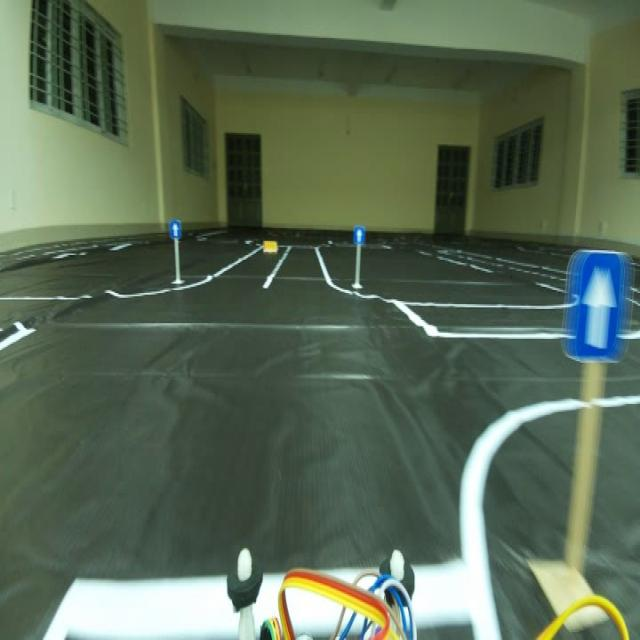onewayroad: (563, 256, 628, 362), (354, 222, 368, 244), (168, 216, 182, 235)
roadblock: (260, 234, 279, 259)
